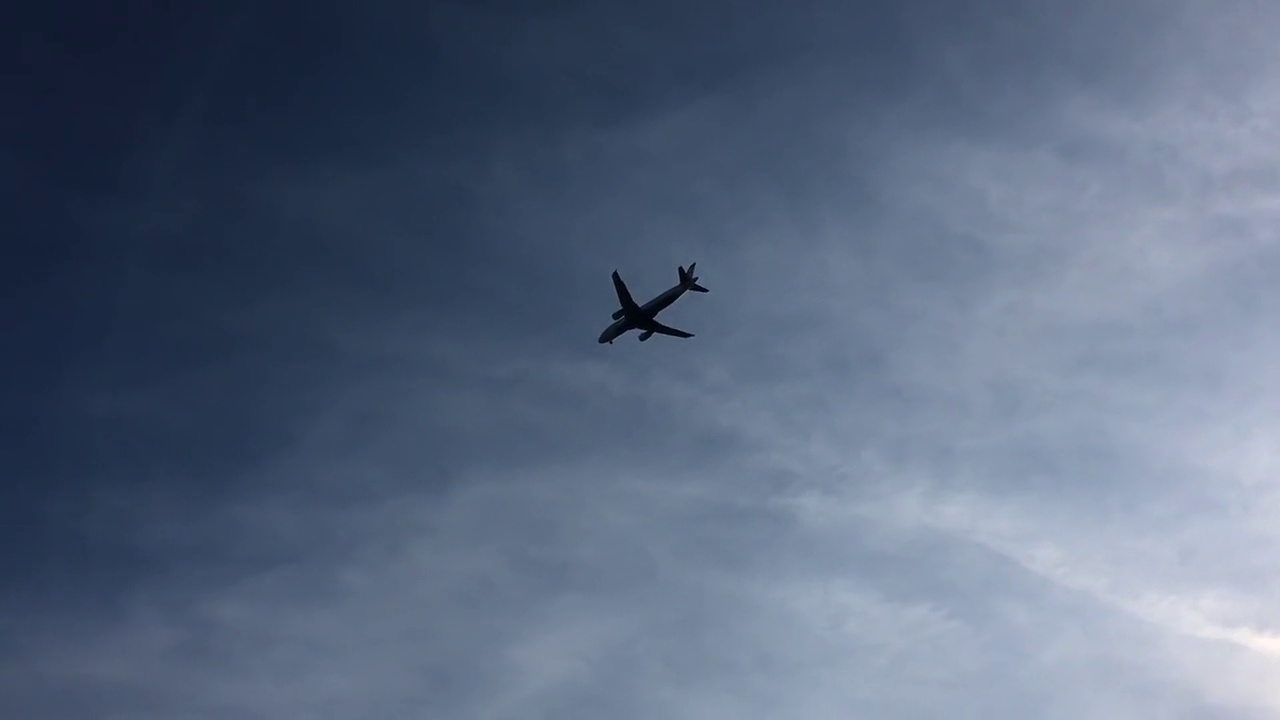plane: (596, 261, 707, 346)
